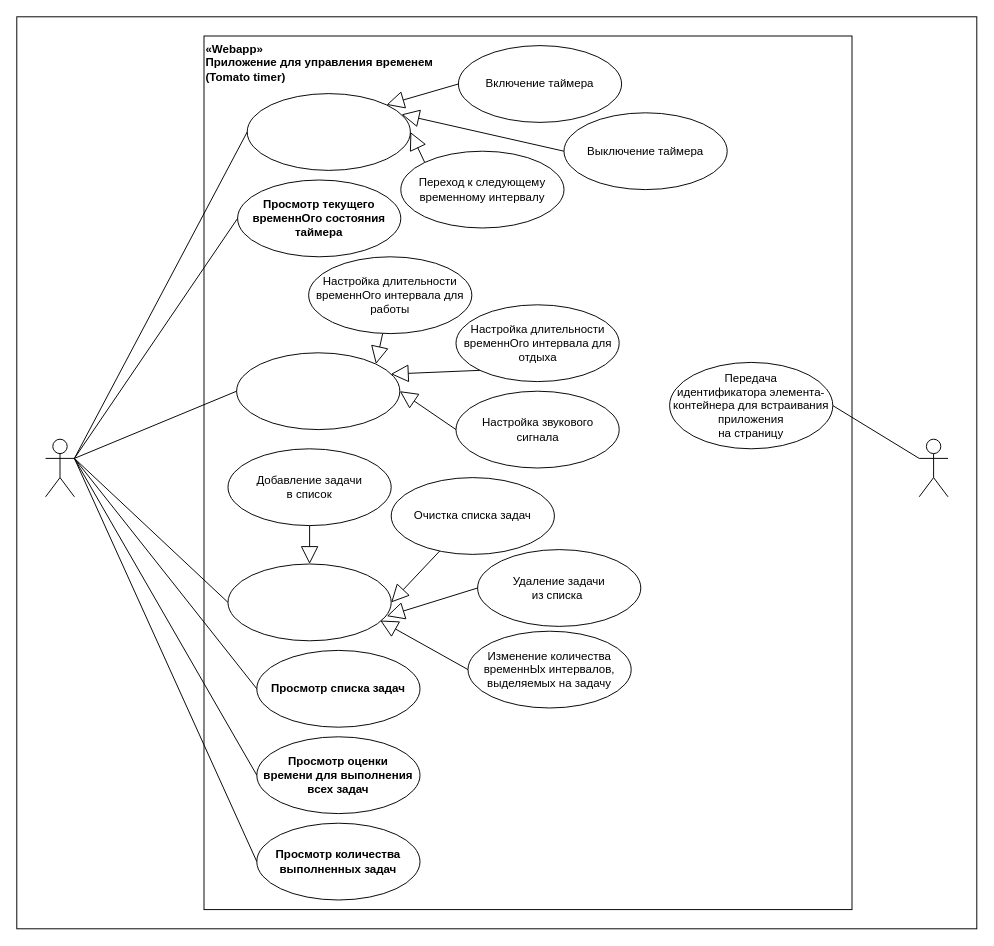
Image size: 994x946. Some labels were removed from this diagram. Here are the shapes that lost their labels. From the top down, the centre of each, then its label:
(x=328, y=131): Использование таймера
(x=318, y=391): Настройка таймера
(x=59, y=467): Пользователь
(x=933, y=467): Разработчик
(x=309, y=602): Изменение списка задач
